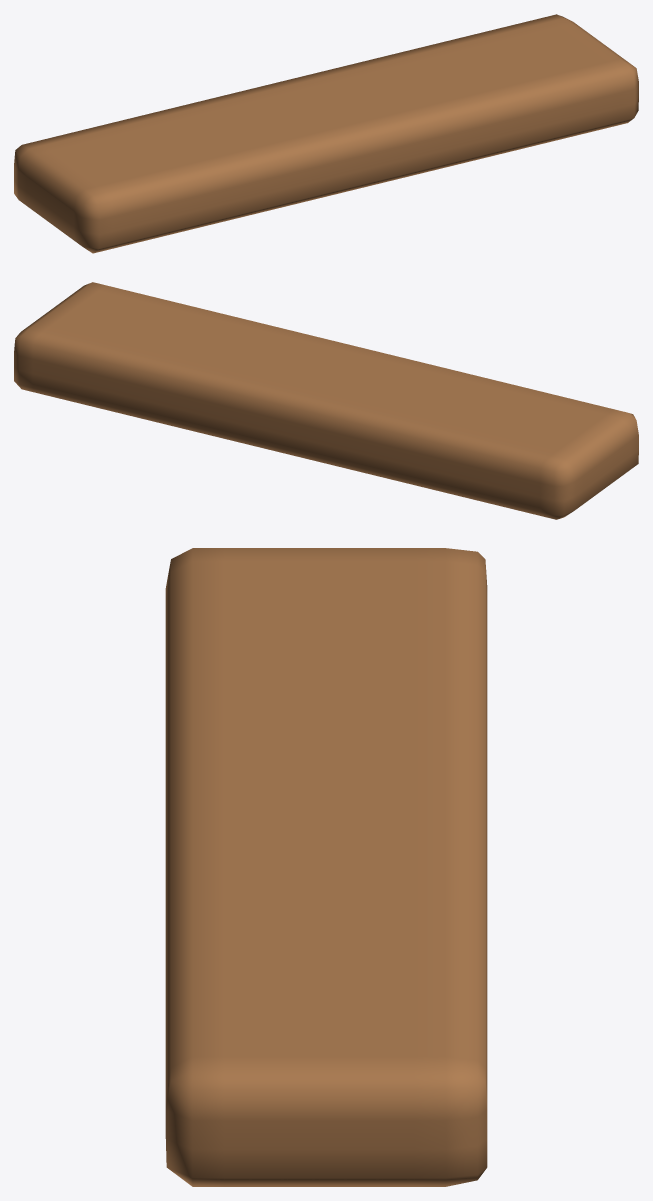
File: plank.glb
3 views of the same model, one above another, from view 1: azimuth 30°, elevation 25°; view 2: azimuth 150°, elevation 25°; view 3: azimuth 270°, elevation 25° (orthographic). The views are drawn at different scales.
Visible parts, largest first — view 1: Plank; view 2: Plank; view 3: Plank.
Part boxes in pixels (x1,y1,x2,y2): Plank: [14, 14, 638, 253]; Plank: [14, 282, 638, 519]; Plank: [165, 548, 487, 1186].
Bounding box in the file's own units: 0.2 × 0.02 × 0.05.
